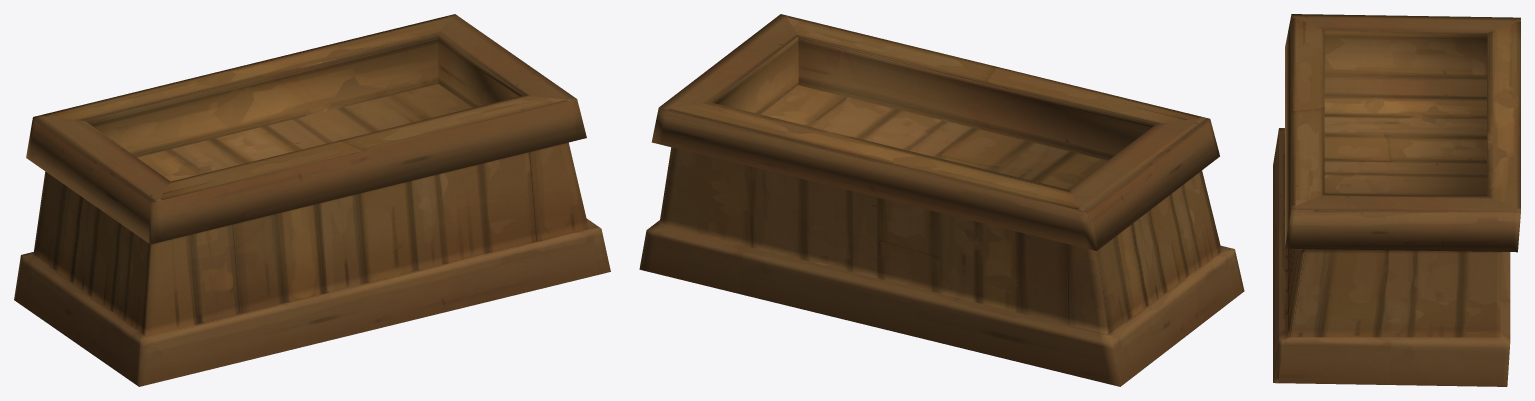
Rendered from V_Etalage.FBX.
3 views of the same model, side by side, from view 1: azimuth 30°, elevation 25°; view 2: azimuth 150°, elevation 25°; view 3: azimuth 270°, elevation 25° (orthographic). The views are drawn at different scales.
Parts seen in each view (by area): view 1: Box009; view 2: Box009; view 3: Box009.
Part boxes in pixels (<box>): Box009: <box>14,14,610,386</box>; Box009: <box>639,14,1244,386</box>; Box009: <box>1273,14,1520,386</box>.
Bounding box in the file's own units: 251 × 88.57 × 120.
